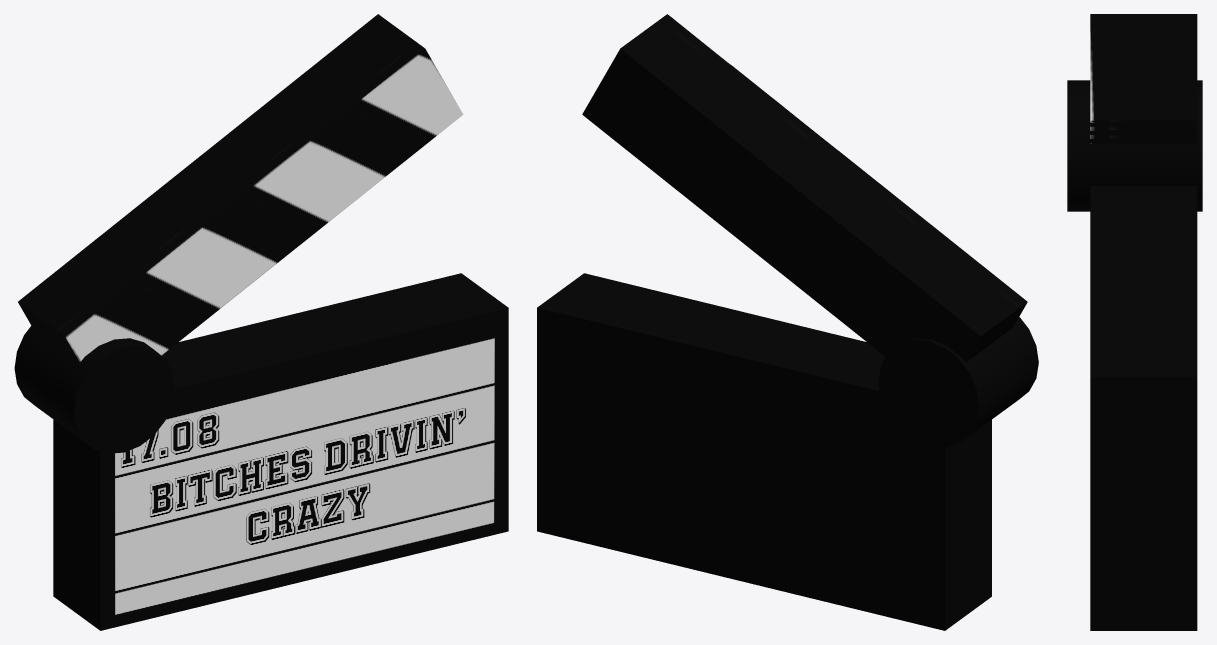
The model's file is Clapper.fbx.
The picture shows the model from 3 angles, left to right: view 1: azimuth 30°, elevation 25°; view 2: azimuth 150°, elevation 25°; view 3: azimuth 270°, elevation 25°; orthographic projection. The views are drawn at different scales.
Visible parts, largest first — view 1: Bottom, Top, Hinge; view 2: Bottom, Top, Hinge; view 3: Bottom, Top, Hinge.
Boxes of the visible parts, <box> form: Bottom: <box>53,273,508,630</box>; Top: <box>18,14,463,362</box>; Hinge: <box>14,326,174,453</box>; Bottom: <box>537,273,991,630</box>; Top: <box>582,14,1027,362</box>; Hinge: <box>878,317,1038,447</box>; Bottom: <box>1090,186,1197,630</box>; Top: <box>1090,14,1197,143</box>; Hinge: <box>1067,80,1202,211</box>.
Size of the model in its own units: 2.72 by 2.95 by 0.6322.
1 material, 1 textured.
